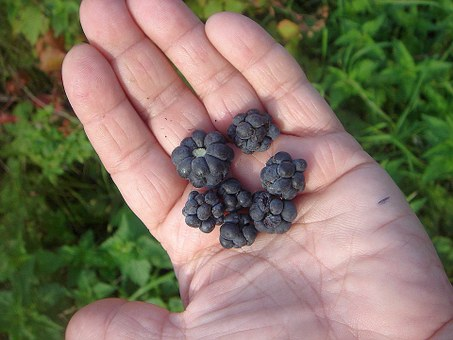palm: (183, 152, 419, 333)
